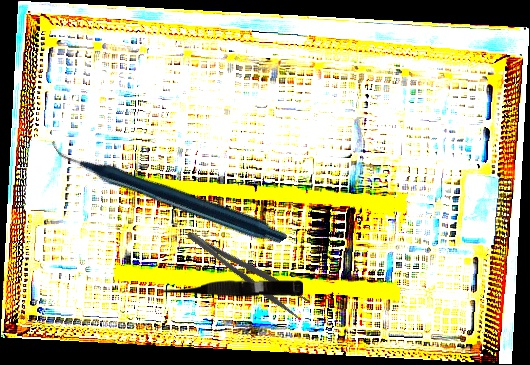Dressing Forceps: (184, 219, 312, 321)
Handpiece: (51, 62, 288, 318)
Micro Scissor: (156, 276, 304, 299)
